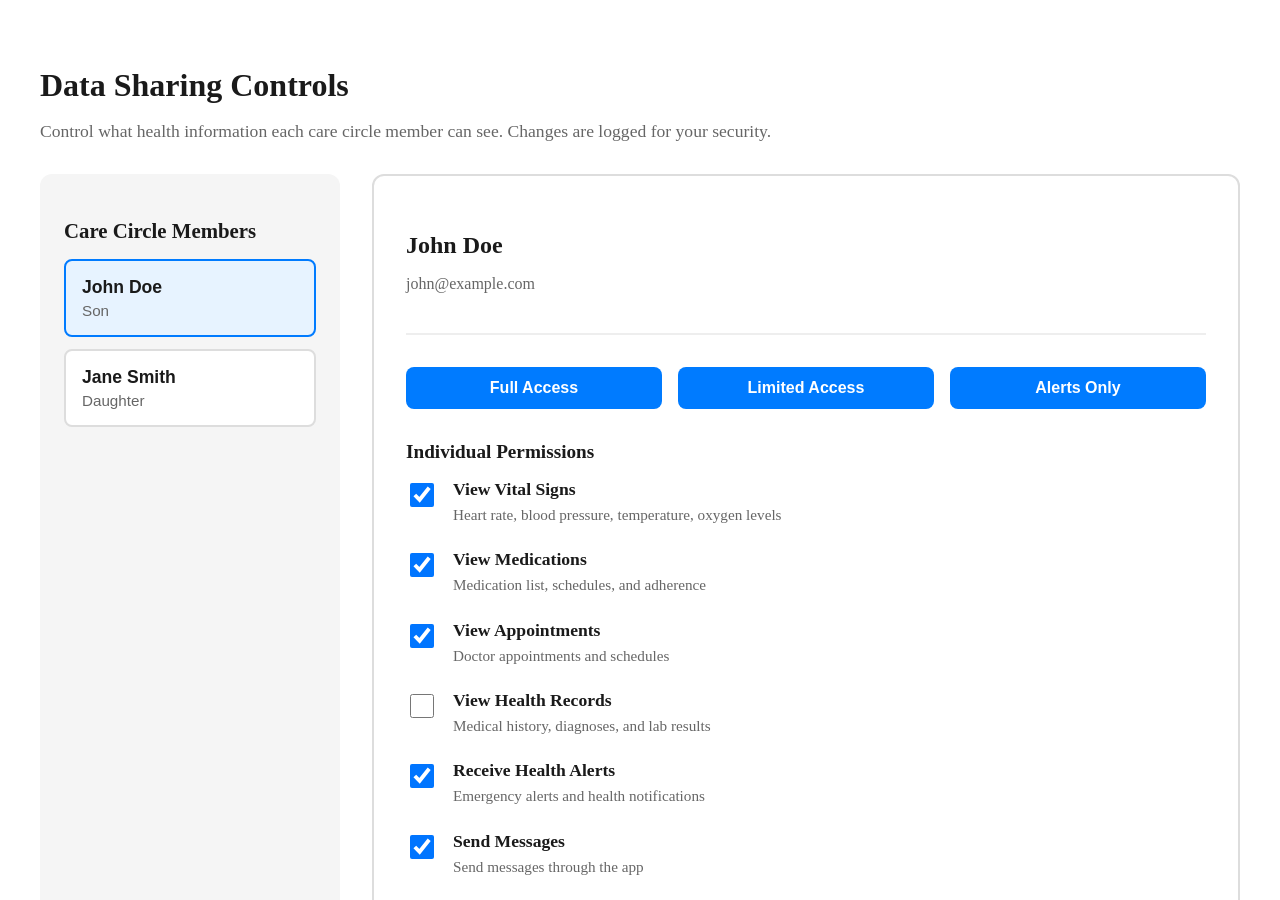
Test case: DataSharingControls › should update permission when checkbox is toggled
Check: the text "View Health Records" is shown, box [453, 690, 612, 710]
Click the checkbox labelled "View Health Records": (422, 706) [410, 694, 434, 718]
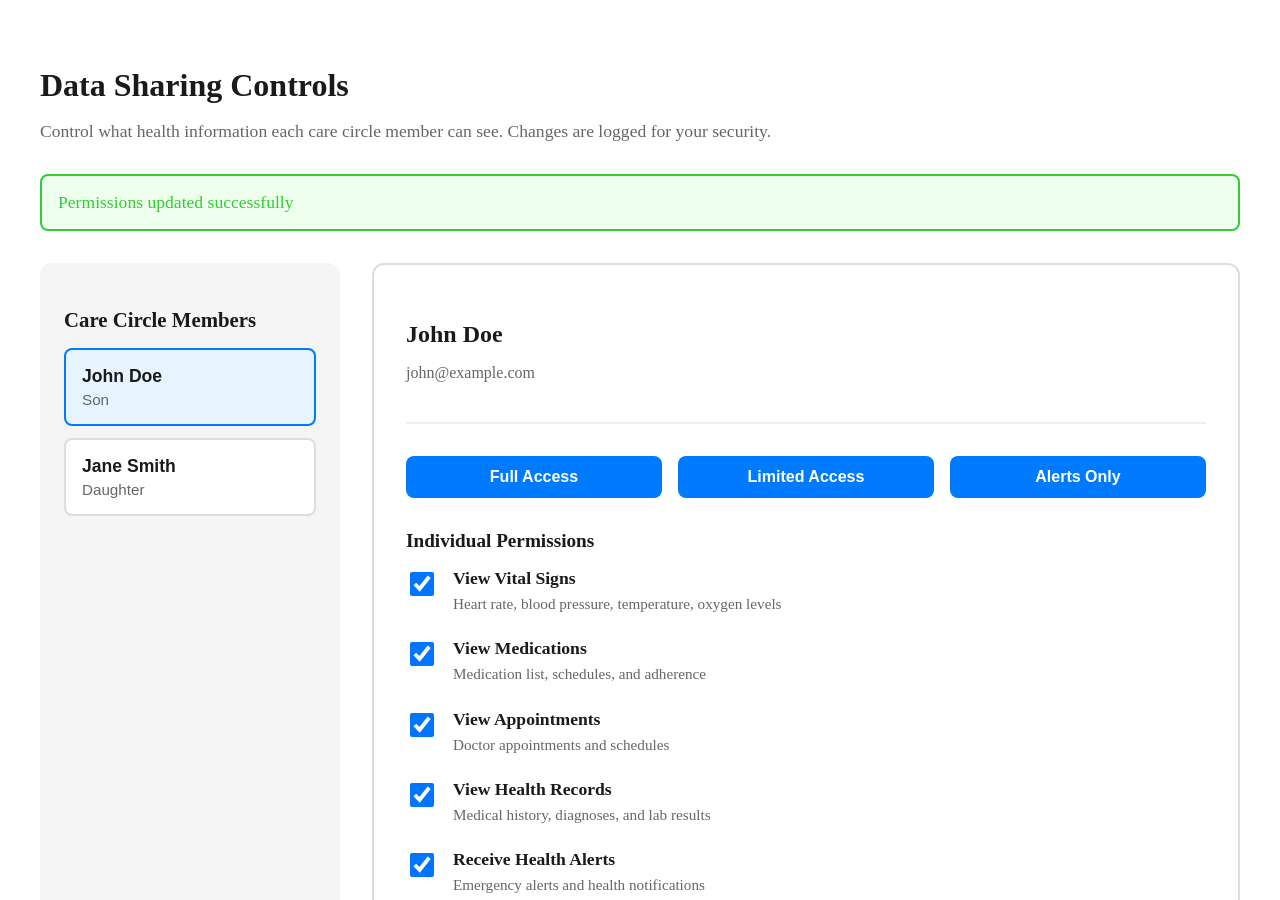
Check: the text "Permissions updated successfully" is shown, box [40, 174, 1240, 231]
